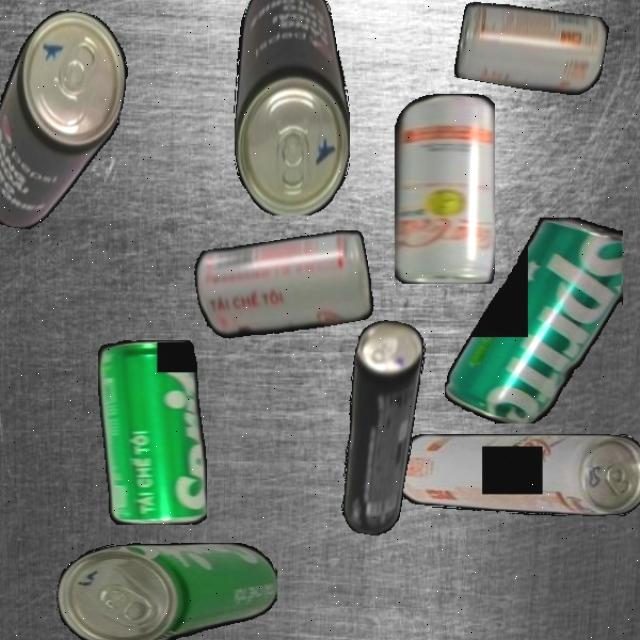debris: (445, 216, 623, 424), (0, 0, 137, 242), (232, 0, 349, 215), (325, 316, 432, 538), (191, 224, 376, 347), (56, 542, 278, 640), (97, 340, 207, 525), (392, 434, 640, 516), (394, 94, 495, 284), (453, 0, 610, 101)
